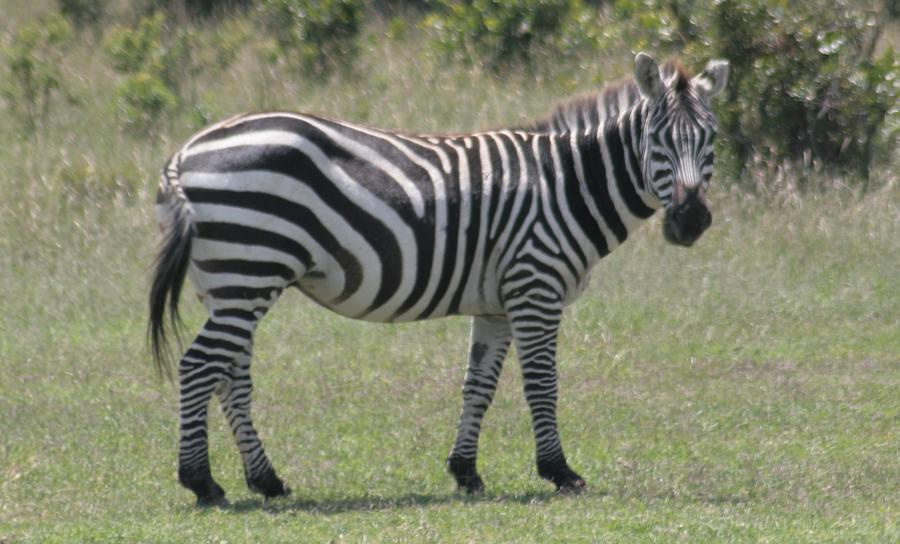zebra_plains: (170, 95, 598, 334)
